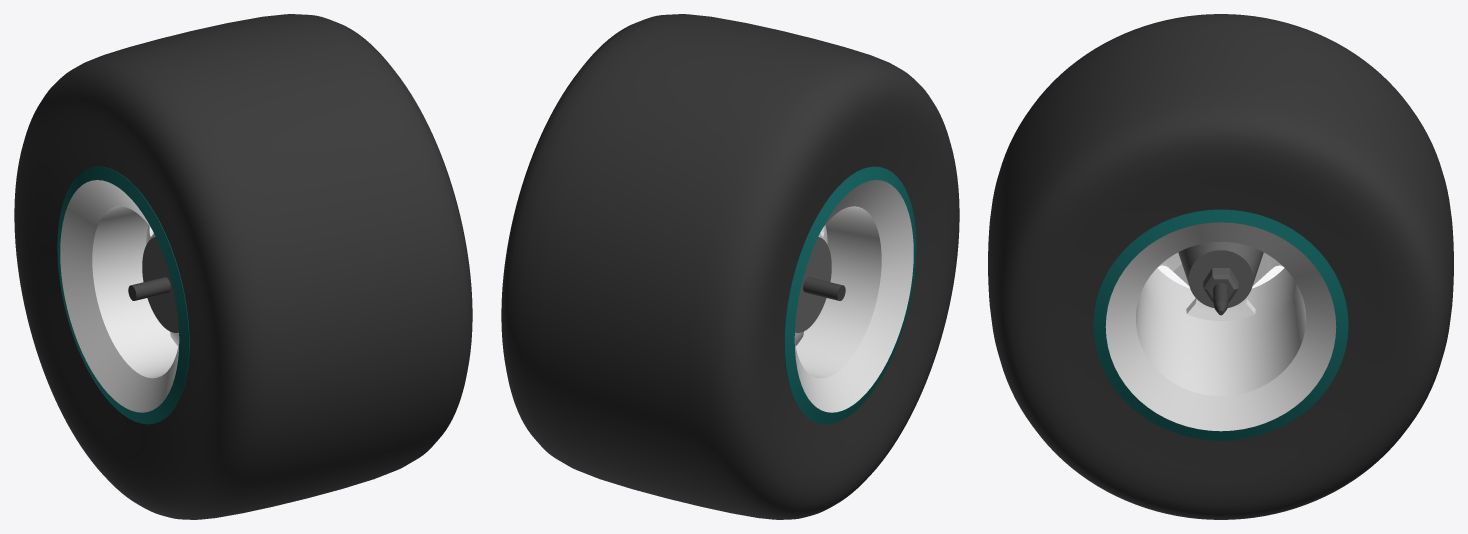
The model's file is drag.fbx.
3 renders of one model, left to right at view 1: azimuth 30°, elevation 25°; view 2: azimuth 150°, elevation 25°; view 3: azimuth 270°, elevation 25°, orthographic. The views are drawn at different scales.
Parts seen in each view (by area): view 1: Cylinder; view 2: Cylinder; view 3: Cylinder.
Part boxes in pixels (x1,y1,x2,y2): Cylinder: [14, 14, 472, 519]; Cylinder: [501, 14, 959, 519]; Cylinder: [988, 14, 1453, 519].
Bounding box in the file's own units: 208 × 346 × 346.
